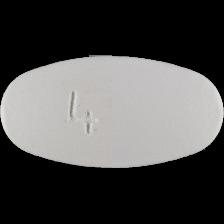0378-3952: (0, 0, 224, 224)
